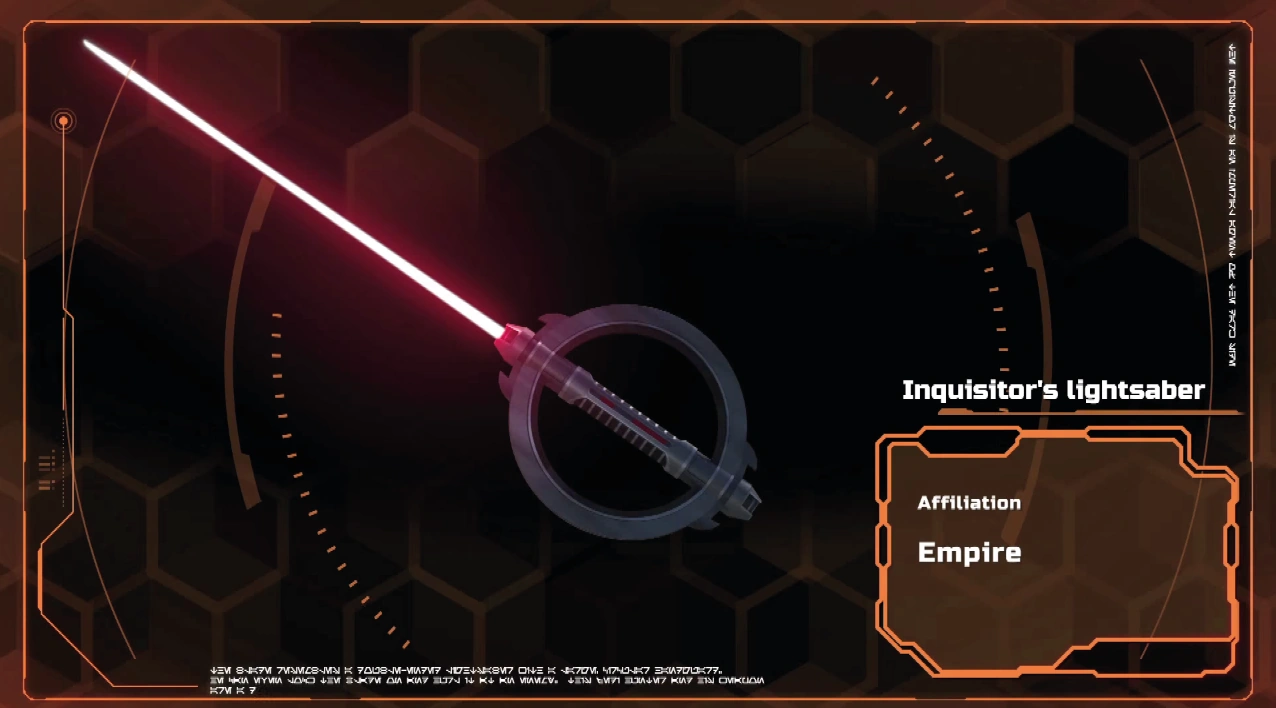cats: (82, 35, 763, 541)
